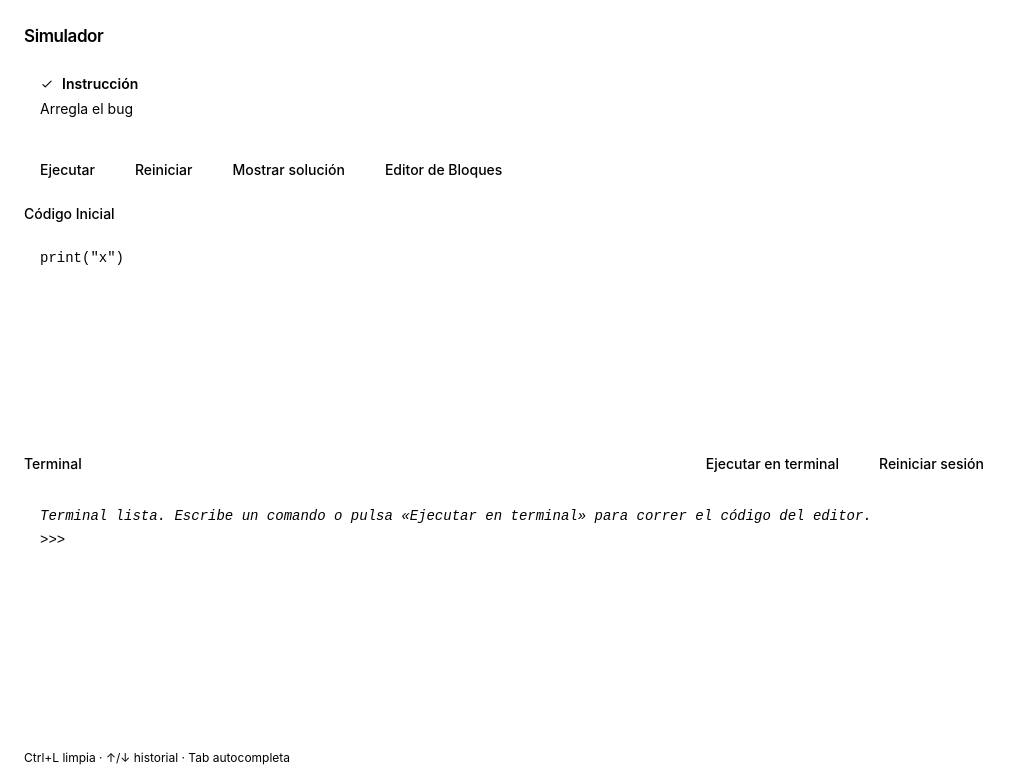
Test case: SimulatorPanel › ejecuta con pyodide y muestra la salida en el panel
Click the button "Ejecutar" at {"x": 67, "y": 170}, box [24,152,111,188]
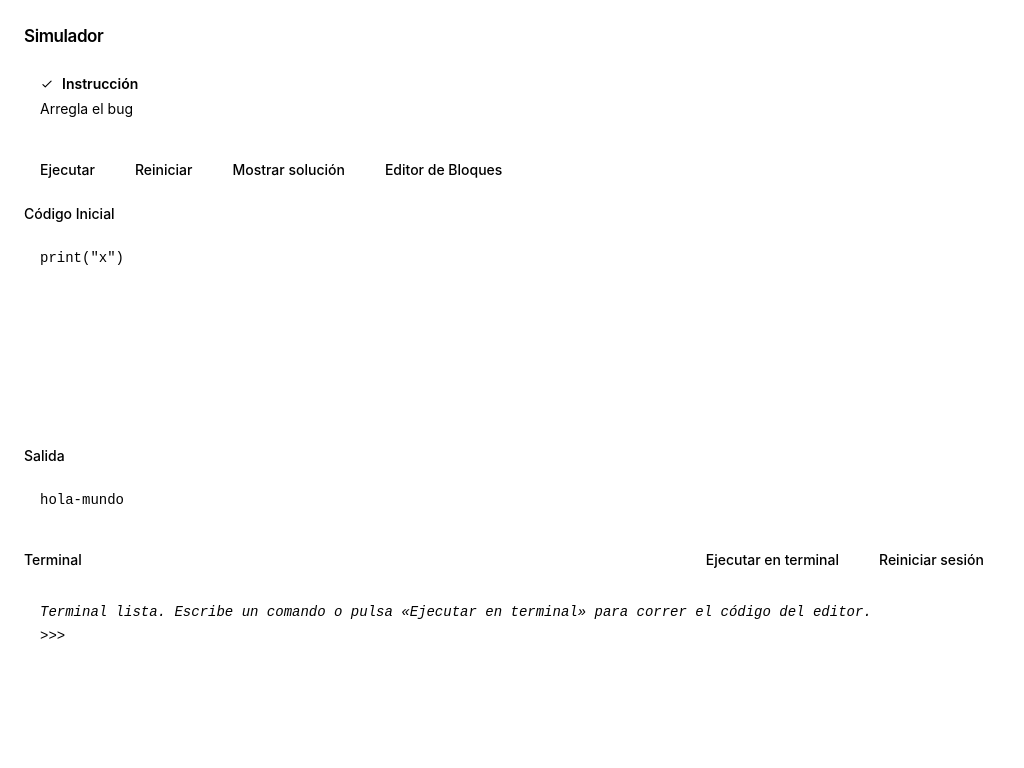
Check: the text "hola-mundo" is shown, box [40,492,124,508]
